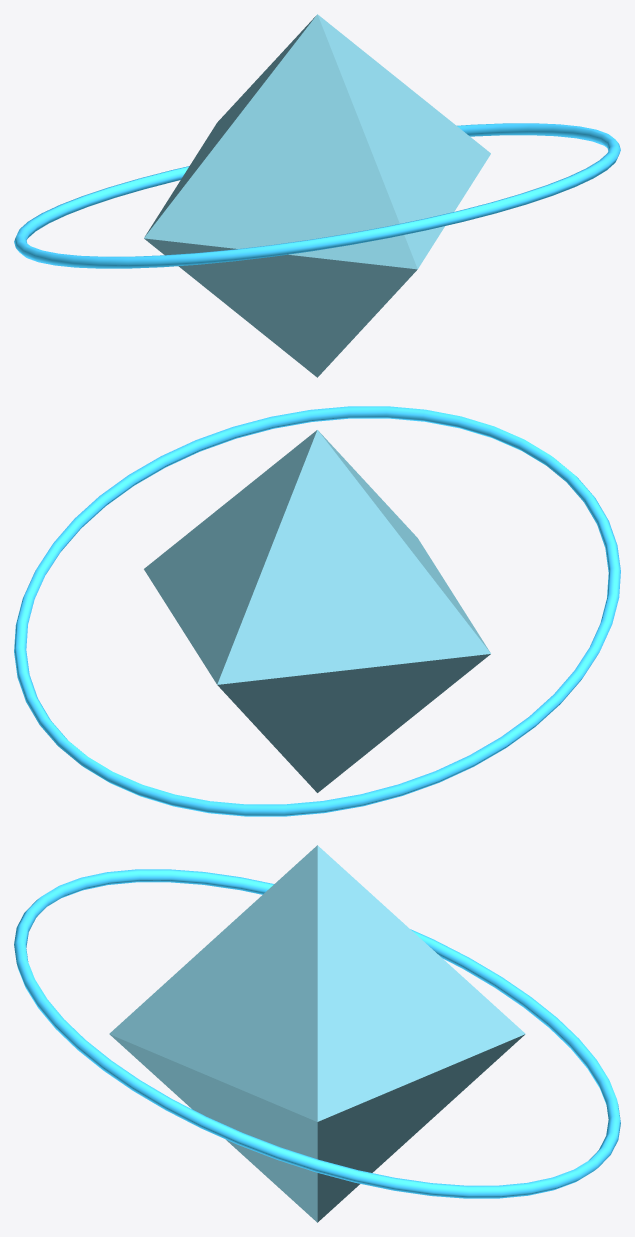
Rendered from diagnostic.glb.
3 renders of one model, top to bottom at view 1: azimuth 30°, elevation 25°; view 2: azimuth 150°, elevation 25°; view 3: azimuth 270°, elevation 25°, orthographic. The views are drawn at different scales.
Parts seen in each view (by area): view 1: DiagnosticCore, object 2; view 2: DiagnosticCore, object 2; view 3: DiagnosticCore, object 2.
Boxes of the visible parts, bbox=[...] form: DiagnosticCore: bbox=[144, 14, 490, 377]; object 2: bbox=[14, 123, 620, 268]; DiagnosticCore: bbox=[144, 430, 490, 792]; object 2: bbox=[14, 406, 620, 816]; DiagnosticCore: bbox=[109, 845, 525, 1222]; object 2: bbox=[14, 869, 620, 1198].
Size of the model in its own units: 2.45 by 1.6 by 2.33.
